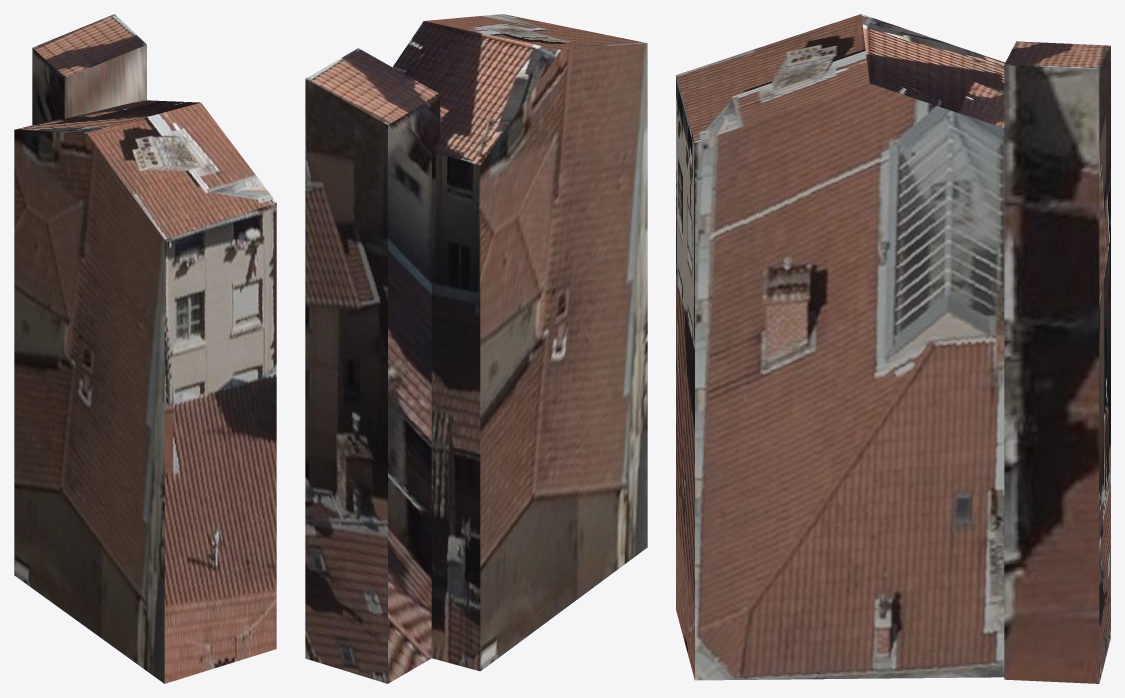
3 views of the same model, side by side, from view 1: azimuth 30°, elevation 25°; view 2: azimuth 150°, elevation 25°; view 3: azimuth 270°, elevation 25° (orthographic). The views are drawn at different scales.
Parts seen in each view (by area): view 1: Z_UP; view 2: Z_UP; view 3: Z_UP.
Boxes of the visible parts, x1,y1,x2,y2 form: Z_UP: (14, 14, 276, 683); Z_UP: (305, 14, 647, 683); Z_UP: (676, 14, 1110, 683).
Bounding box in the file's own units: 5.47 × 20.94 × 13.42.
Materials: 2 (1 with a texture image).
